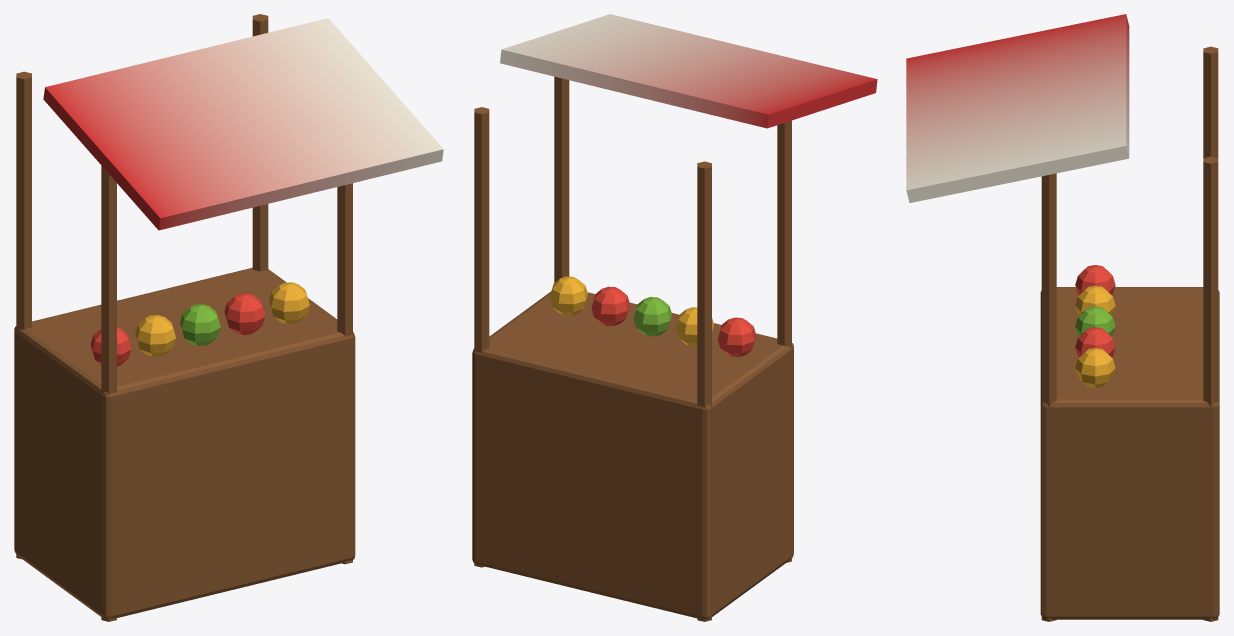
The model's file is prop_stall.glb.
3 renders of one model, left to right at view 1: azimuth 30°, elevation 25°; view 2: azimuth 150°, elevation 25°; view 3: azimuth 270°, elevation 25°, orthographic. The views are drawn at different scales.
Visible parts, largest first — view 1: counter, awning, pole.001, pole, pole.002, pole.003, fruit.003, fruit.004, fruit.001, fruit.002, fruit; view 2: counter, awning, pole.003, pole.001, pole, pole.002, fruit.002, fruit.004, fruit.003, fruit, fruit.001; view 3: counter, awning, pole.003, pole.002, pole.001, fruit.004, fruit.003, fruit.002, fruit, fruit.001.
Part boxes in pixels (bbox=[...]): counter: bbox=[14, 267, 355, 619]; awning: bbox=[43, 18, 443, 230]; pole.001: bbox=[16, 71, 31, 559]; pole: bbox=[101, 166, 116, 621]; pole.002: bbox=[337, 183, 352, 564]; pole.003: bbox=[252, 14, 268, 271]; fruit.003: bbox=[224, 293, 265, 334]; fruit.004: bbox=[269, 282, 309, 323]; fruit.001: bbox=[135, 315, 175, 356]; fruit.002: bbox=[180, 304, 220, 345]; fruit: bbox=[90, 327, 131, 366]; counter: bbox=[472, 291, 793, 619]; awning: bbox=[500, 14, 877, 128]; pole.003: bbox=[474, 107, 489, 567]; pole.001: bbox=[697, 161, 711, 621]; pole: bbox=[777, 120, 791, 562]; pole.002: bbox=[554, 76, 569, 282]; fruit.002: bbox=[633, 297, 671, 336]; fruit.004: bbox=[549, 276, 587, 315]; fruit.003: bbox=[591, 286, 629, 326]; fruit: bbox=[717, 317, 756, 356]; fruit.001: bbox=[675, 307, 713, 346]; counter: bbox=[1040, 287, 1219, 619]; awning: bbox=[906, 14, 1129, 202]; pole.003: bbox=[1203, 156, 1218, 621]; pole.002: bbox=[1041, 173, 1056, 621]; pole.001: bbox=[1203, 46, 1218, 158]; fruit.004: bbox=[1075, 348, 1115, 387]; fruit.003: bbox=[1075, 327, 1115, 357]; fruit.002: bbox=[1075, 306, 1115, 336]; fruit: bbox=[1075, 265, 1115, 294]; fruit.001: bbox=[1075, 285, 1115, 315].
Bounding box in the file's own units: 1.08 × 1.85 × 1.08.
